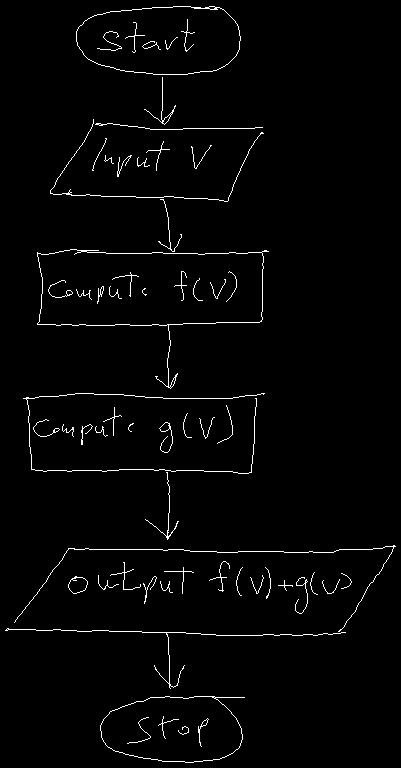arrow: (145, 472, 178, 539), (154, 633, 184, 688), (144, 77, 175, 124), (155, 325, 177, 388), (158, 199, 181, 251)
data: (5, 545, 395, 635), (50, 119, 263, 201)
process: (23, 393, 264, 473), (37, 249, 268, 325)
terminator: (76, 6, 240, 74), (100, 696, 244, 762)
text: (68, 561, 351, 613), (33, 405, 232, 452), (48, 271, 236, 303), (92, 138, 211, 176), (97, 19, 194, 52), (127, 716, 208, 746)
